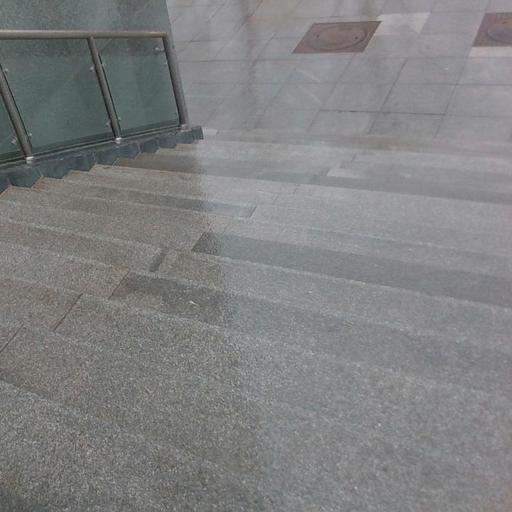stairs: (0, 131, 511, 511)
